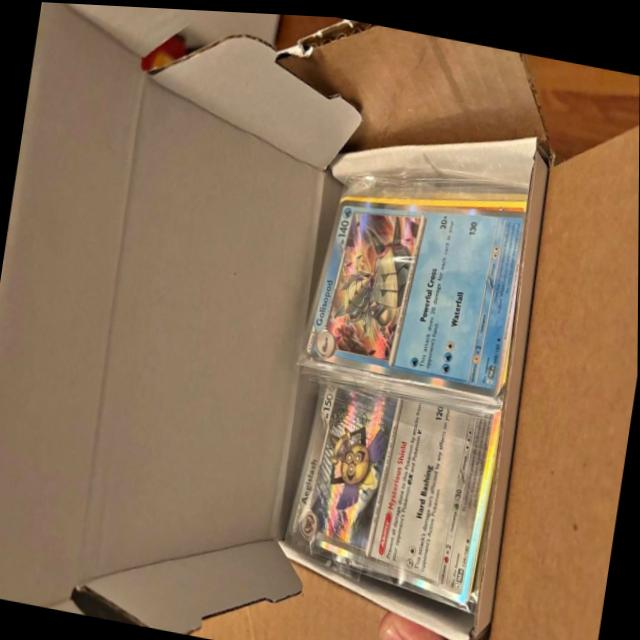card: (288, 370, 503, 600), (301, 193, 527, 393)
